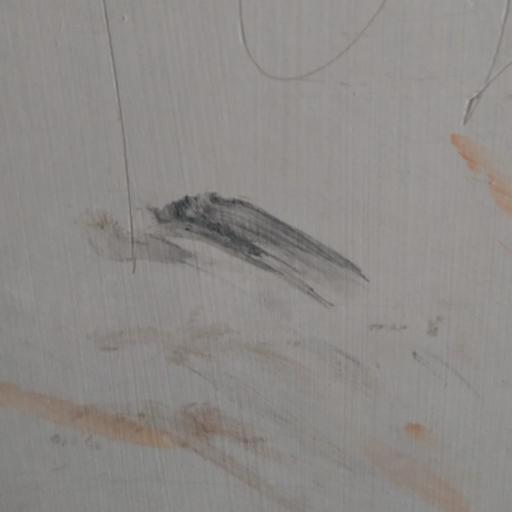stain: (0, 312, 466, 511), (83, 146, 410, 331), (89, 0, 152, 287), (447, 1, 512, 259), (224, 0, 401, 93), (423, 299, 479, 442)
